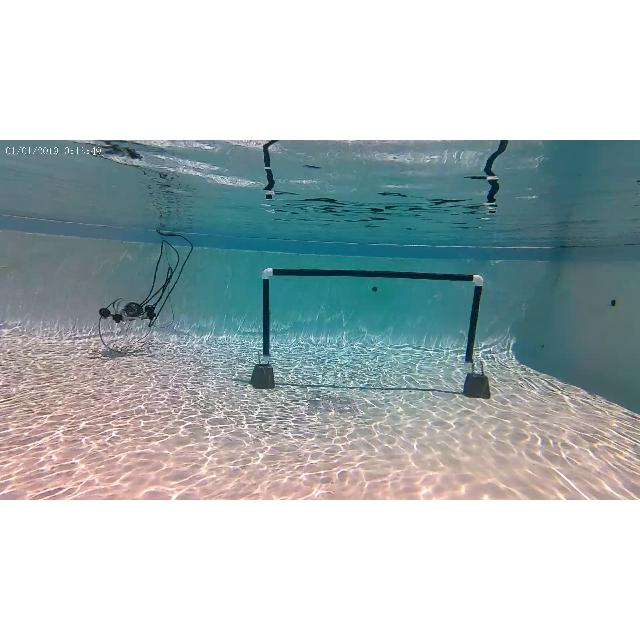prequal gate: (260, 266, 482, 372)
prequal gate leg l: (250, 266, 276, 389)
prequal gate leg r: (463, 270, 493, 400)
